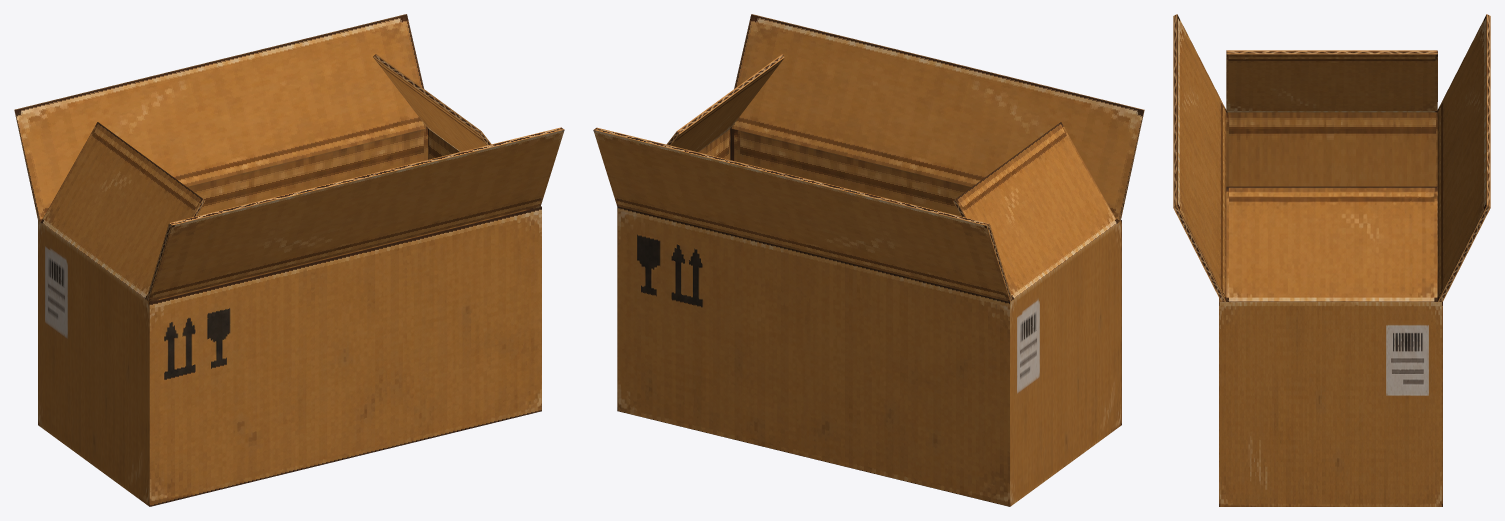
Rendered from caja_del_proveedor.glb.
The picture shows the model from 3 angles, left to right: view 1: azimuth 30°, elevation 25°; view 2: azimuth 150°, elevation 25°; view 3: azimuth 270°, elevation 25°; orthographic projection.
Visible parts, largest first — view 1: caja_del_proveedor; view 2: caja_del_proveedor; view 3: caja_del_proveedor.
Boxes of the visible parts, <box> form: caja_del_proveedor: <box>14,14,564,506</box>; caja_del_proveedor: <box>593,14,1144,506</box>; caja_del_proveedor: <box>1173,14,1490,506</box>.
Bounding box in the file's own units: 4.03 × 2.93 × 2.8.
Materials: 1 (1 with a texture image).
